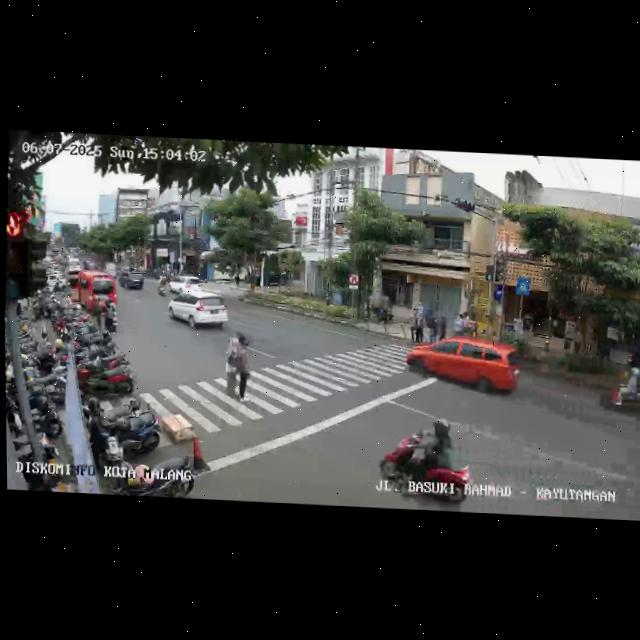car: (402, 332, 523, 395), (166, 288, 230, 333), (66, 268, 118, 315), (170, 273, 204, 294), (118, 267, 145, 292)
motorcycle: (376, 414, 475, 503), (613, 355, 640, 418), (100, 297, 118, 339), (156, 275, 170, 297)
person: (236, 331, 254, 404), (225, 337, 241, 398), (407, 307, 420, 343), (427, 309, 438, 342), (438, 312, 448, 341)
